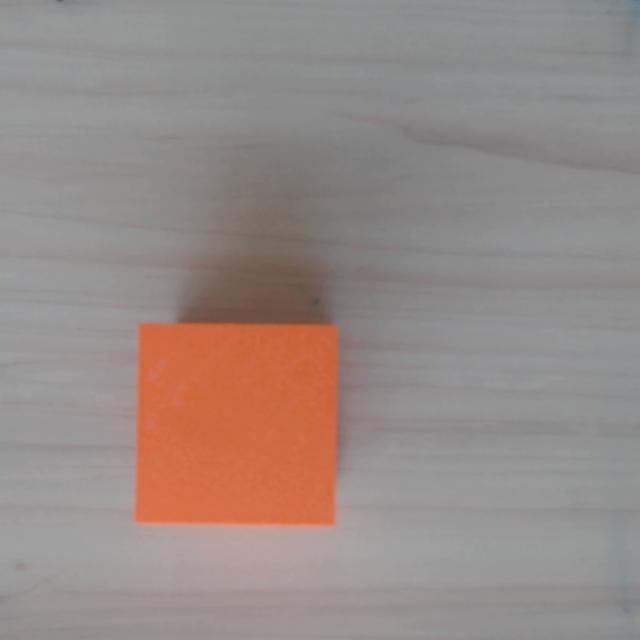Kubus-Jingga-505050: (135, 323, 338, 525)
